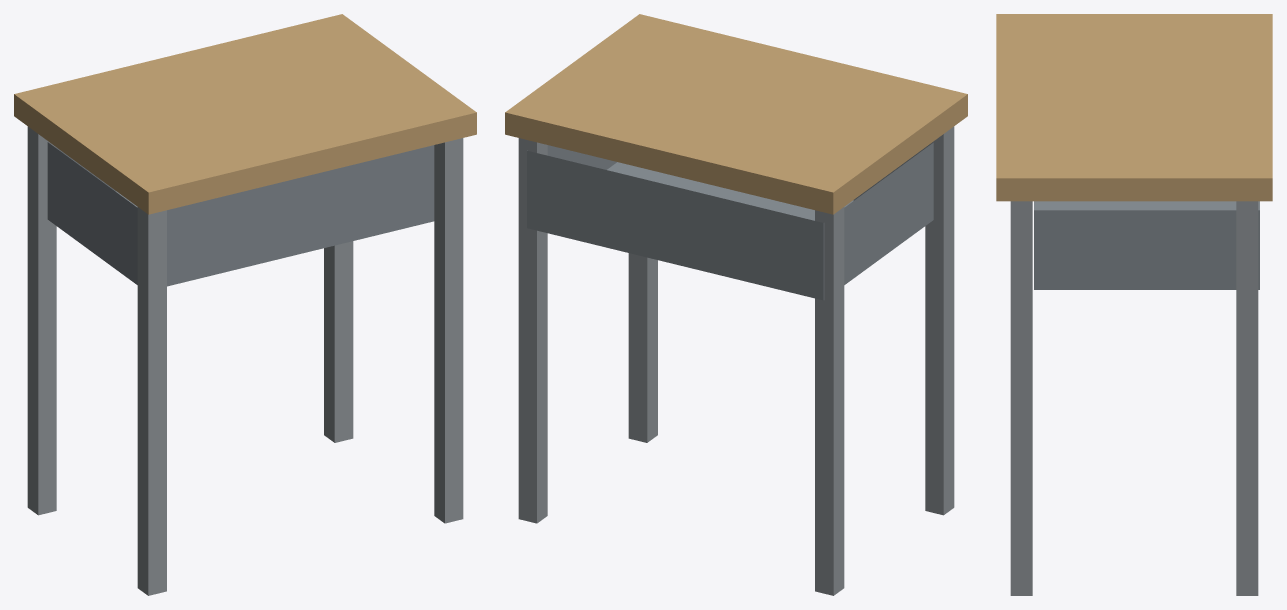
The model's file is sdesk.glb.
3 views of the same model, side by side, from view 1: azimuth 30°, elevation 25°; view 2: azimuth 150°, elevation 25°; view 3: azimuth 270°, elevation 25° (orthographic). The views are drawn at different scales.
Parts seen in each view (by area): view 1: sdesk; view 2: sdesk; view 3: sdesk.
Boxes of the visible parts, x1,y1,x2,y2 form: sdesk: (14,14,476,595); sdesk: (505,14,967,595); sdesk: (996,14,1272,595).
Bounding box in the file's own units: 0.62 × 0.74 × 0.44.
